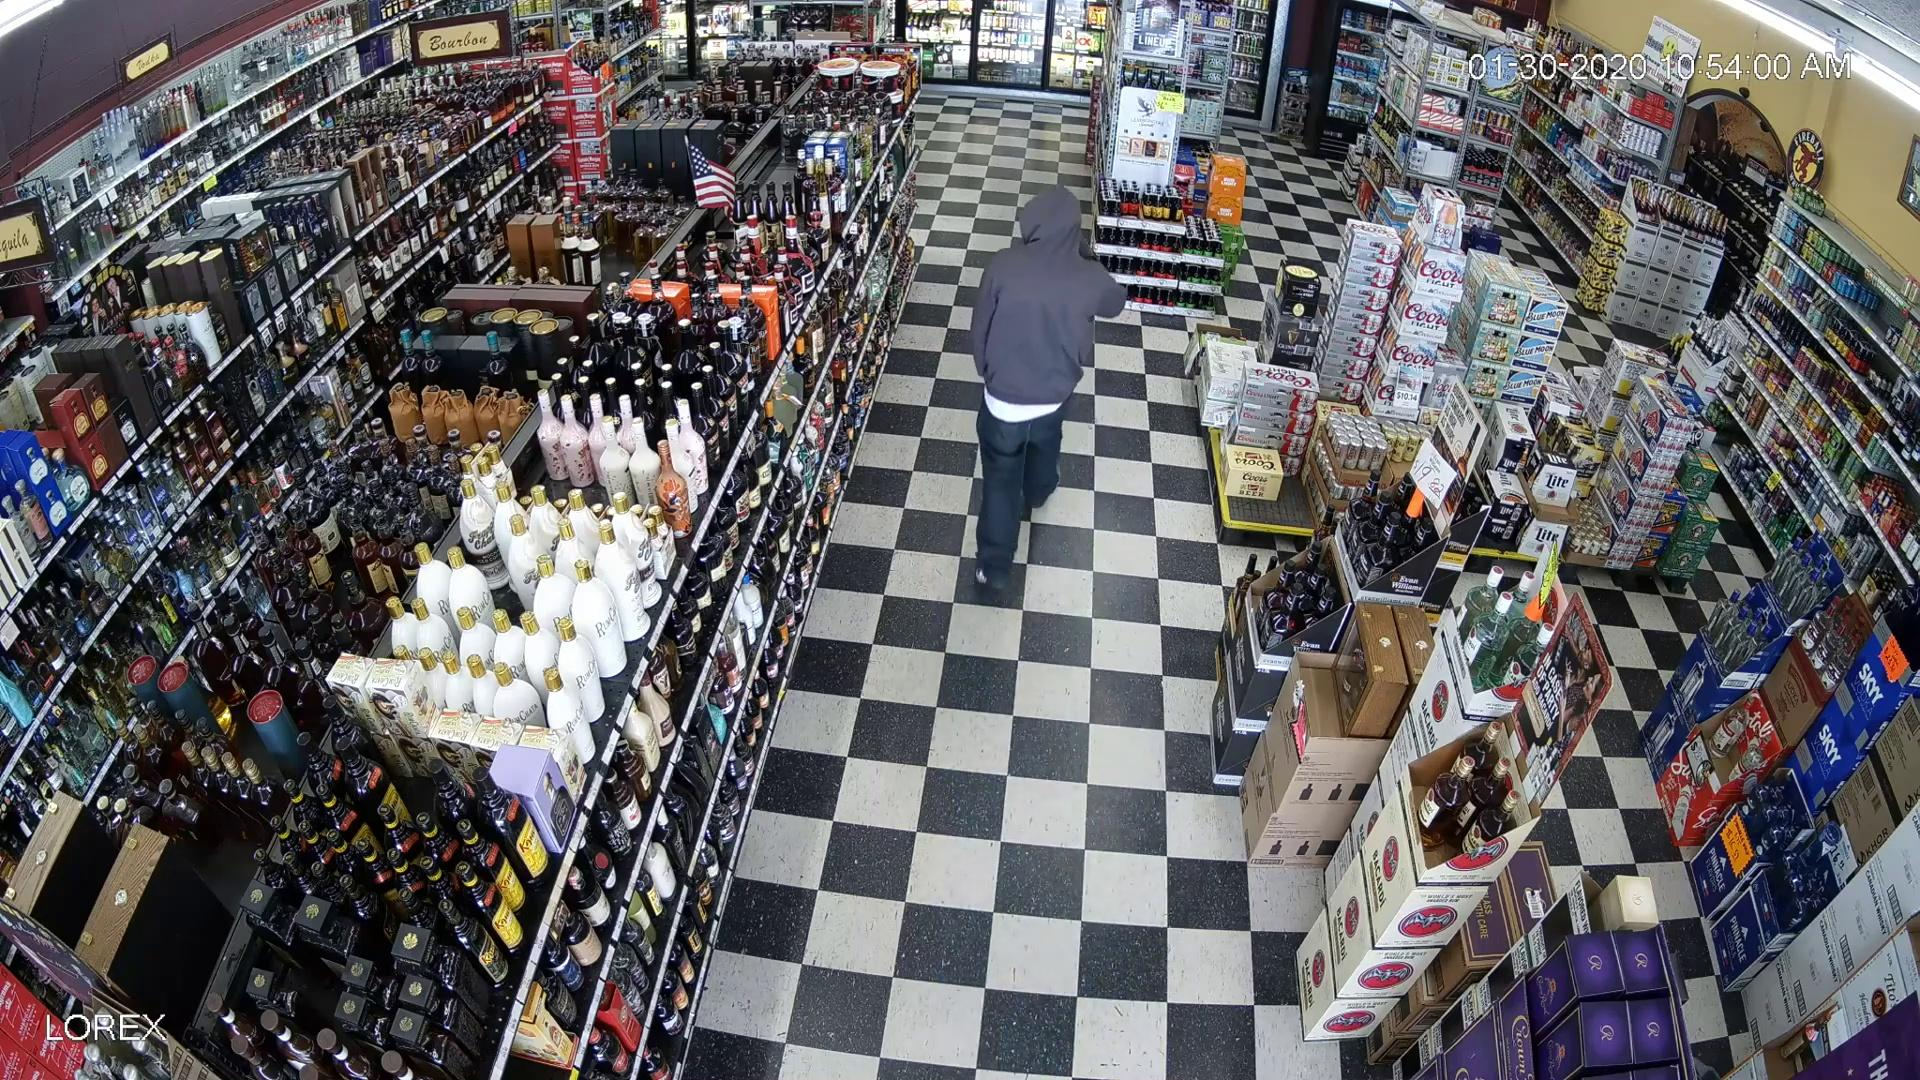Regular: (907, 170, 1154, 626)
